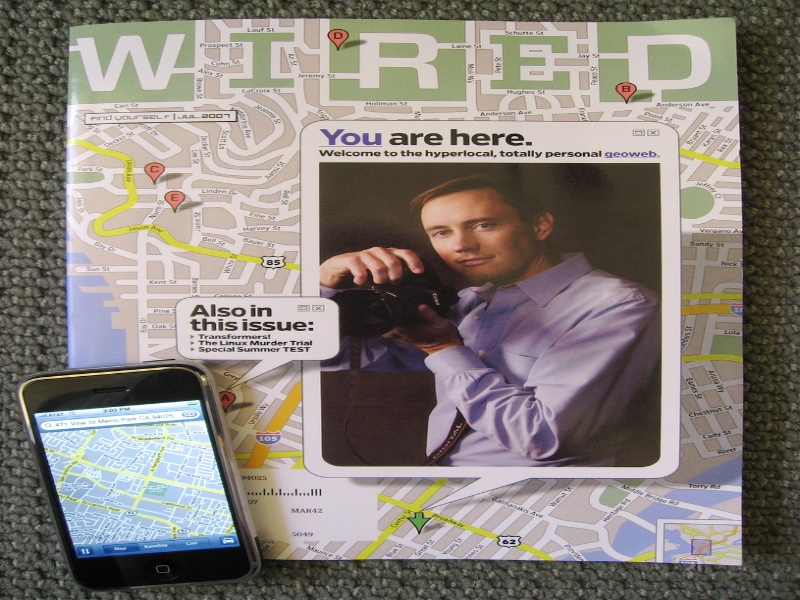Mobile Phone: (6, 360, 285, 588)
